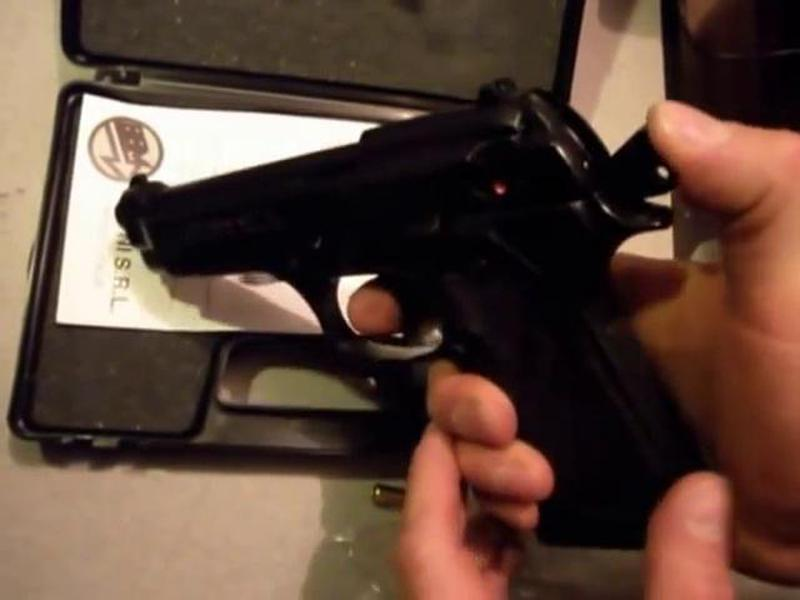Pistola: (76, 98, 724, 540)
